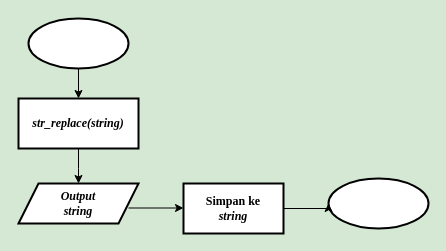
This 446x251 diagram has some shape labels left out. The box of each missing label's shape, as (x1, y1, x2, y2) in pixels:
End: (327, 177, 429, 229)
Start: (27, 17, 129, 69)
